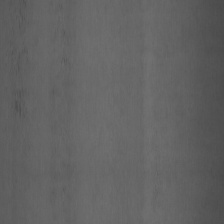silk_spot: (11, 23, 25, 109), (48, 33, 70, 87)
